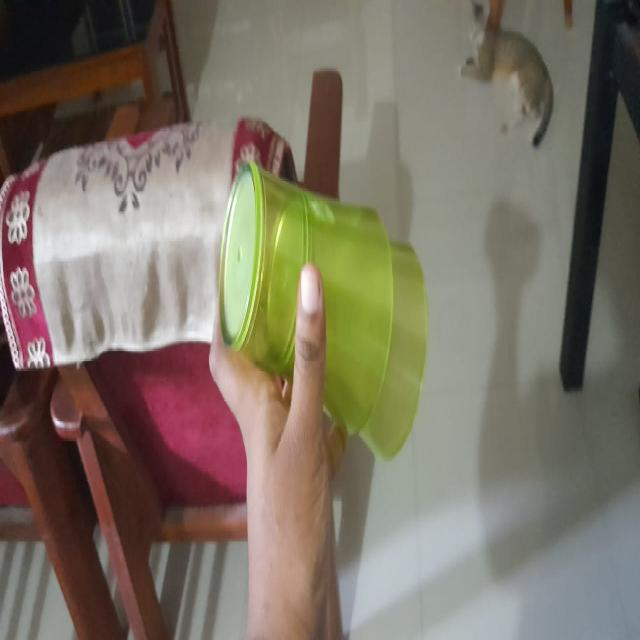Plastic - Recyclable: (217, 157, 429, 463)
